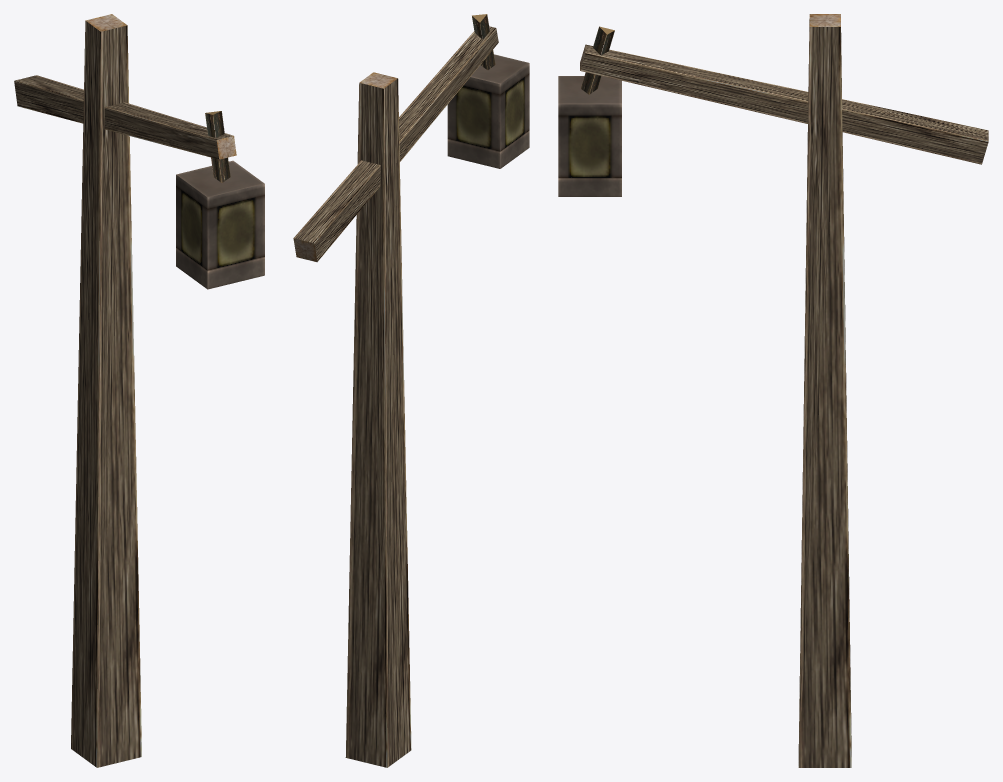
The model's file is StreetLamp.FBX.
3 renders of one model, left to right at view 1: azimuth 30°, elevation 25°; view 2: azimuth 150°, elevation 25°; view 3: azimuth 270°, elevation 25°, orthographic. The views are drawn at different scales.
Parts seen in each view (by area): view 1: StreetLamp; view 2: StreetLamp; view 3: StreetLamp.
Boxes of the visible parts, x1,y1,x2,y2 form: StreetLamp: (14,14,264,767); StreetLamp: (293,14,529,767); StreetLamp: (558,14,988,767).
Size of the model in its own units: 44.5 by 542 by 287.
